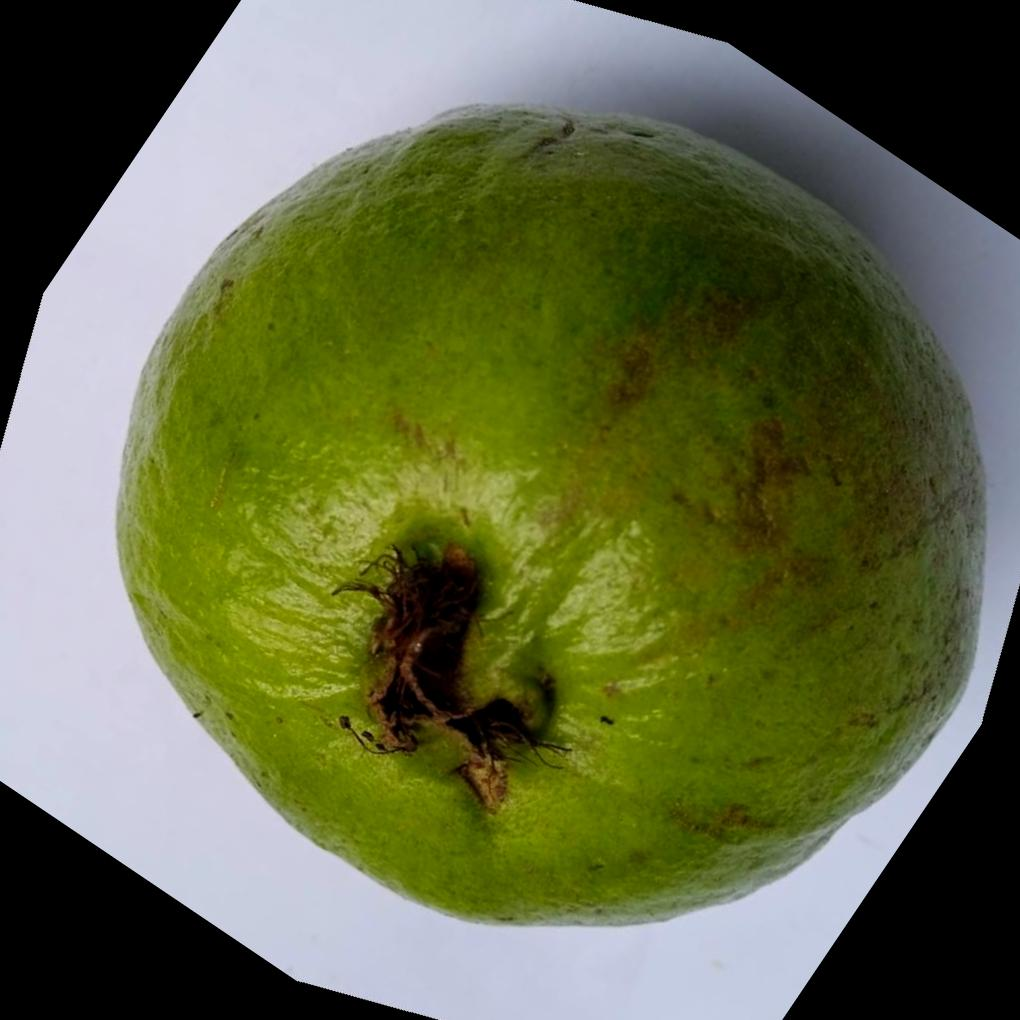FreshGuava: (114, 98, 990, 925)
